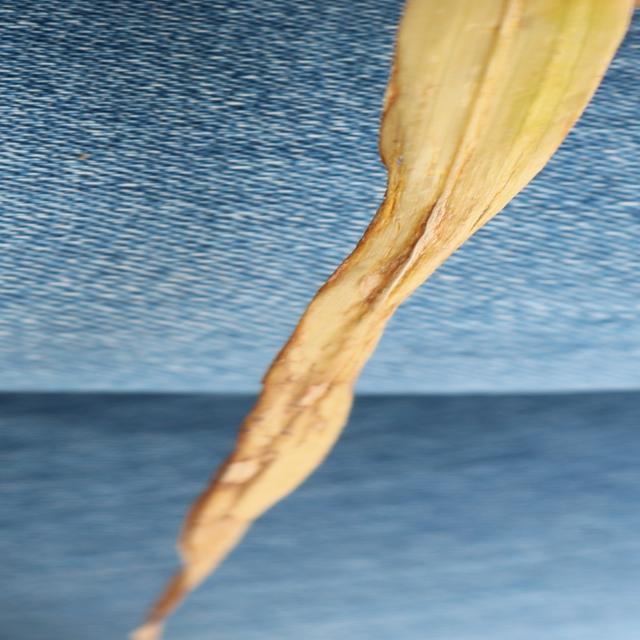Septoria: (127, 1, 638, 638)
